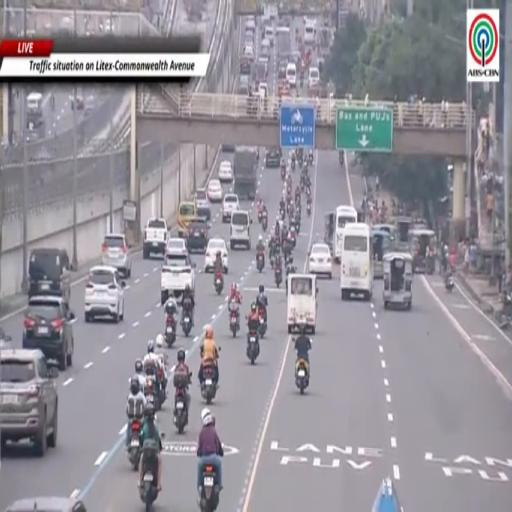bus: (340, 222, 373, 300), (334, 205, 357, 262), (178, 201, 197, 237)
car: (0, 349, 58, 456), (23, 296, 74, 371), (84, 266, 125, 323), (29, 248, 72, 300), (161, 253, 195, 305), (102, 233, 131, 278), (7, 496, 86, 511), (204, 238, 228, 273), (309, 243, 332, 278), (187, 220, 208, 252), (195, 188, 211, 220), (222, 194, 239, 222), (207, 179, 223, 202), (167, 237, 187, 253), (265, 147, 281, 167), (219, 160, 233, 182), (69, 92, 84, 110), (0, 328, 11, 348), (309, 68, 320, 88), (260, 40, 270, 59), (243, 45, 254, 61), (278, 60, 287, 79), (258, 83, 268, 100), (245, 16, 255, 30), (245, 29, 254, 43), (244, 36, 253, 46)
motorcycle: (173, 372, 192, 434), (199, 466, 220, 511), (140, 470, 158, 511), (128, 420, 141, 470), (201, 365, 217, 405), (246, 330, 260, 364), (295, 359, 308, 394), (146, 376, 159, 410), (157, 367, 166, 408), (165, 315, 176, 347), (258, 307, 268, 338), (285, 265, 296, 293), (182, 311, 192, 337), (230, 311, 239, 337), (215, 271, 223, 295), (256, 251, 264, 273), (288, 227, 296, 248), (274, 267, 282, 287), (445, 277, 454, 293), (294, 215, 300, 234), (262, 212, 267, 231), (300, 175, 305, 191), (280, 208, 285, 220), (307, 202, 311, 217), (281, 166, 285, 181), (295, 195, 300, 207), (287, 182, 291, 196), (258, 211, 263, 222), (306, 186, 311, 197), (270, 255, 274, 268), (309, 153, 313, 165), (291, 159, 295, 170)
truck: (234, 147, 258, 200), (142, 218, 168, 259)
